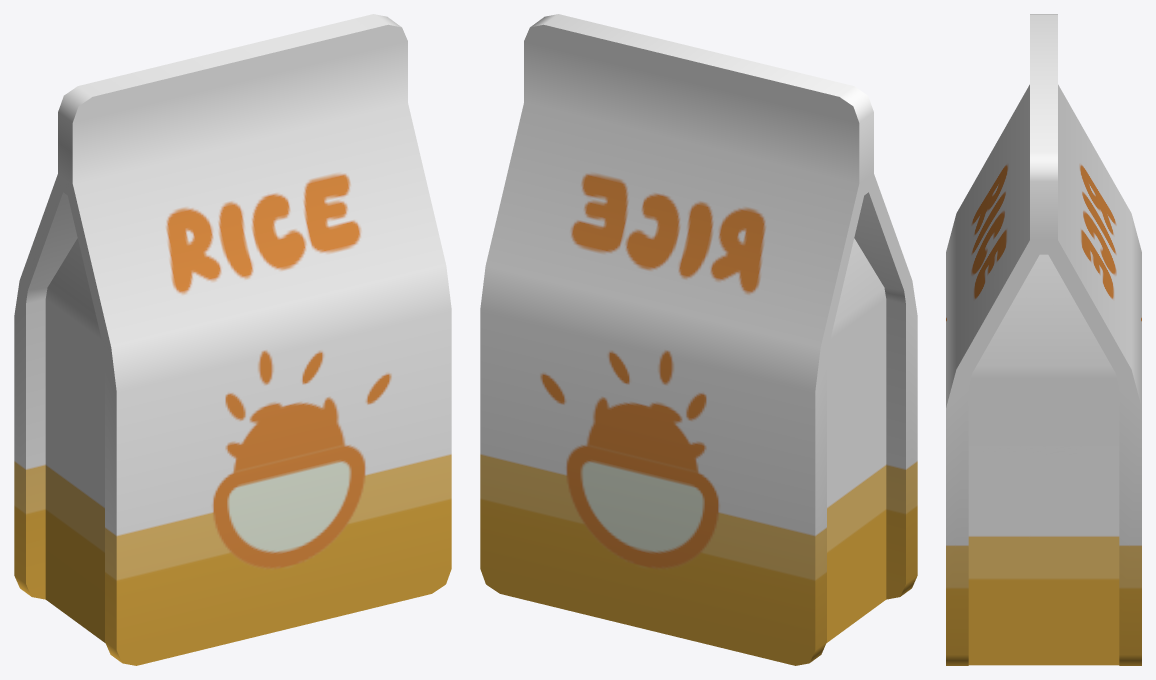
Rendered from Packet_Rice_01.fbx.
3 views of the same model, side by side, from view 1: azimuth 30°, elevation 25°; view 2: azimuth 150°, elevation 25°; view 3: azimuth 270°, elevation 25° (orthographic). The views are drawn at different scales.
Visible parts, largest first — view 1: Packet_Rice_01; view 2: Packet_Rice_01; view 3: Packet_Rice_01.
Part boxes in pixels (<box>): Packet_Rice_01: <box>14,14,451,665</box>; Packet_Rice_01: <box>480,14,917,665</box>; Packet_Rice_01: <box>946,14,1141,665</box>.
Size of the model in its own units: 55.25 by 84.6 by 29.27.
